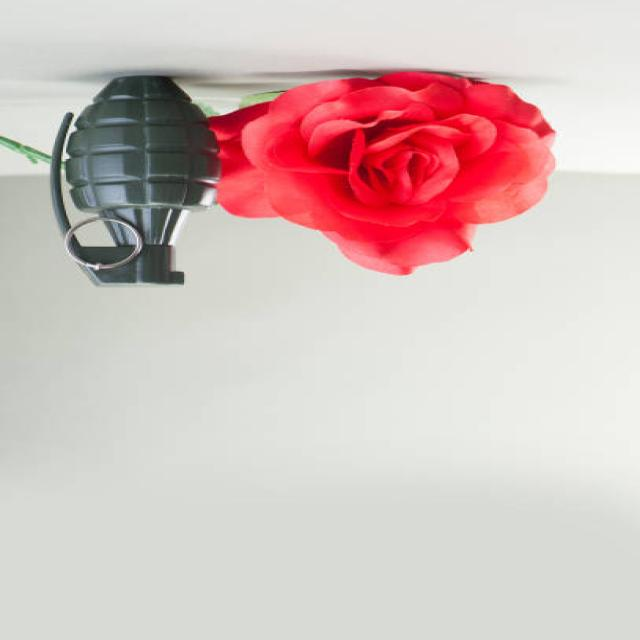grenade: (47, 72, 228, 299)
